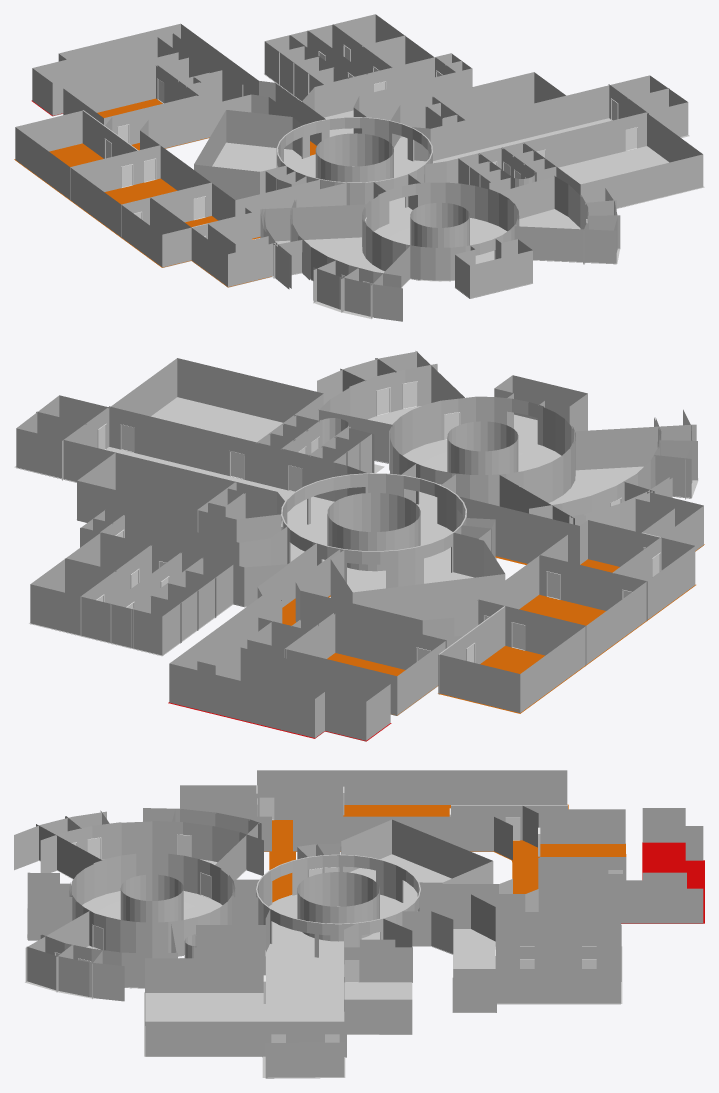
File: New Map.fbx
3 views of the same model, one above another, from view 1: azimuth 30°, elevation 25°; view 2: azimuth 150°, elevation 25°; view 3: azimuth 270°, elevation 25° (orthographic). The views are drawn at different scales.
Visible parts, largest first — view 1: Cube.025, Cube.038, Cube.030, Cube.009, Cylinder.004, Cube.036, Circle.001, Cube.018, Cylinder.006, Cube.041, Circle, Cylinder.009 (+24 smaller); view 2: Cube.038, Cube.025, Cube.009, Cube.030, Cube.041, Cylinder.004, Cube.036, Circle.001, Cylinder.006, Cube.018, Cylinder.008, Cylinder.005 (+24 smaller); view 3: Cube.038, Circle.001, Cube.025, Cube.030, Cylinder.004, Cylinder.005, Cube.009, Cylinder.009, Cylinder.006, Plane.003, Cube.018, Cube.036 (+19 smaller).
Part boxes in pixels (x1,y1,x2,y2): Cube.025: (412,75,703,208); Cube.038: (32,14,471,145); Cube.030: (15,110,277,287); Cube.009: (140,94,346,254); Cylinder.004: (362,182,519,281); Cube.036: (63,57,222,144); Circle.001: (212,73,704,212); Cube.018: (194,110,302,199); Cylinder.006: (276,117,432,212); Cube.041: (390,72,565,147); Circle: (272,209,619,318); Cylinder.009: (260,188,617,321); Cube.038: (30,510,390,741); Cube.025: (16,358,374,501); Cube.009: (295,496,674,637); Cube.030: (440,491,703,713); Cube.041: (77,452,284,542); Cylinder.004: (389,396,575,509); Cube.036: (247,613,446,715); Circle.001: (14,397,497,655); Cylinder.006: (281,473,466,590); Cube.018: (330,533,505,620); Cylinder.008: (327,492,420,571); Cylinder.005: (318,364,661,519); Cube.038: (402,808,703,1004); Circle.001: (144,854,622,1077); Cube.025: (145,909,357,1078); Cube.030: (180,770,567,810); Cylinder.004: (69,853,235,956); Cylinder.005: (40,821,263,988); Cube.009: (198,793,512,893); Cylinder.009: (14,808,261,1001); Cylinder.006: (256,854,420,958); Plane.003: (264,804,626,902); Cube.018: (341,819,493,883); Cube.036: (538,809,626,888).
Bounding box in the file's own units: 6276 × 385 × 6703.
